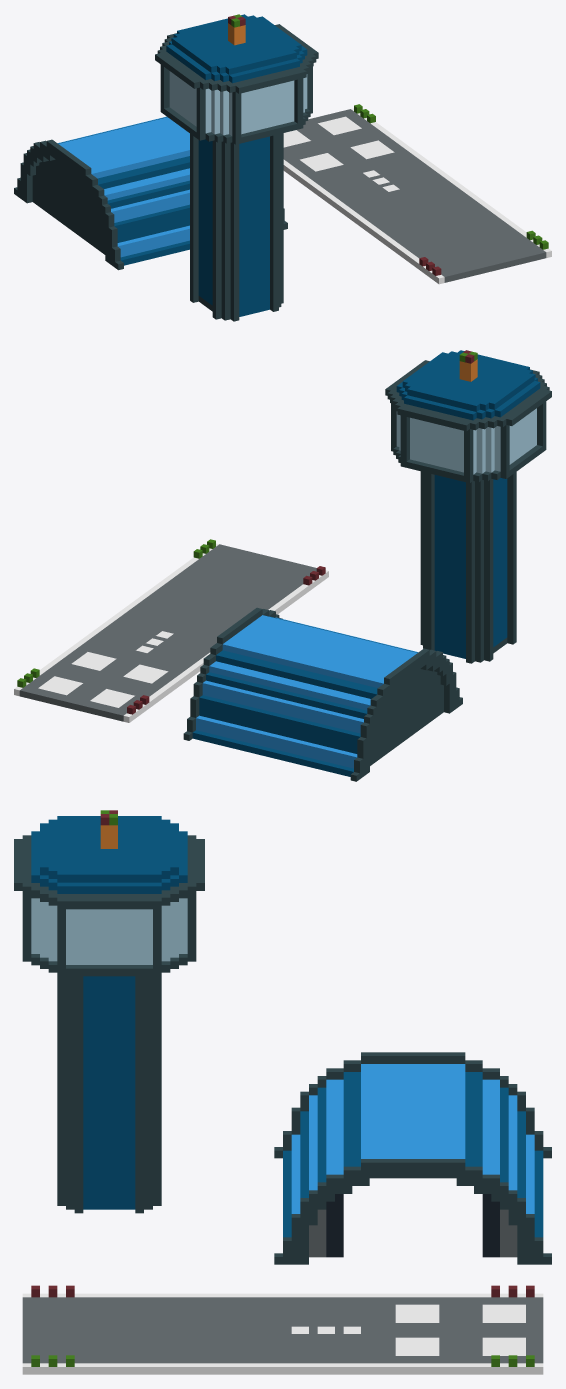
File: airfield.obj
3 renders of one model, top to bottom at view 1: azimuth 30°, elevation 25°; view 2: azimuth 150°, elevation 25°; view 3: azimuth 270°, elevation 25°, orthographic. The views are drawn at different scales.
Bounding box in the file's own units: 6.1 × 4.8 × 6.2.
1 material, 1 textured.
